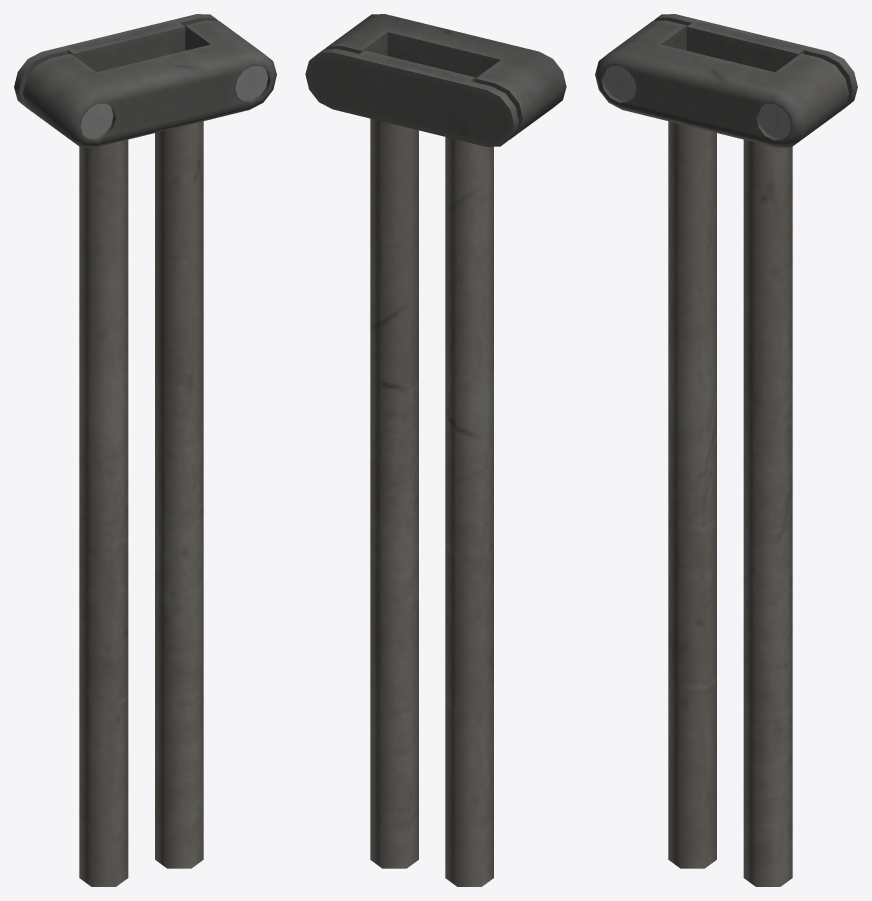
File: cable_cable_double.fbx
3 views of the same model, side by side, from view 1: azimuth 30°, elevation 25°; view 2: azimuth 150°, elevation 25°; view 3: azimuth 330°, elevation 25° (orthographic).
Visible parts, largest first — view 1: modular_electric_cables__cable_double; view 2: modular_electric_cables__cable_double; view 3: modular_electric_cables__cable_double.
Part boxes in pixels (left/top/right/bottom): modular_electric_cables__cable_double: left=14, top=14, right=276, bottom=886; modular_electric_cables__cable_double: left=305, top=14, right=566, bottom=886; modular_electric_cables__cable_double: left=595, top=14, right=857, bottom=886.
Bounding box in the file's own units: 0.0556 × 0.2073 × 0.0259.
